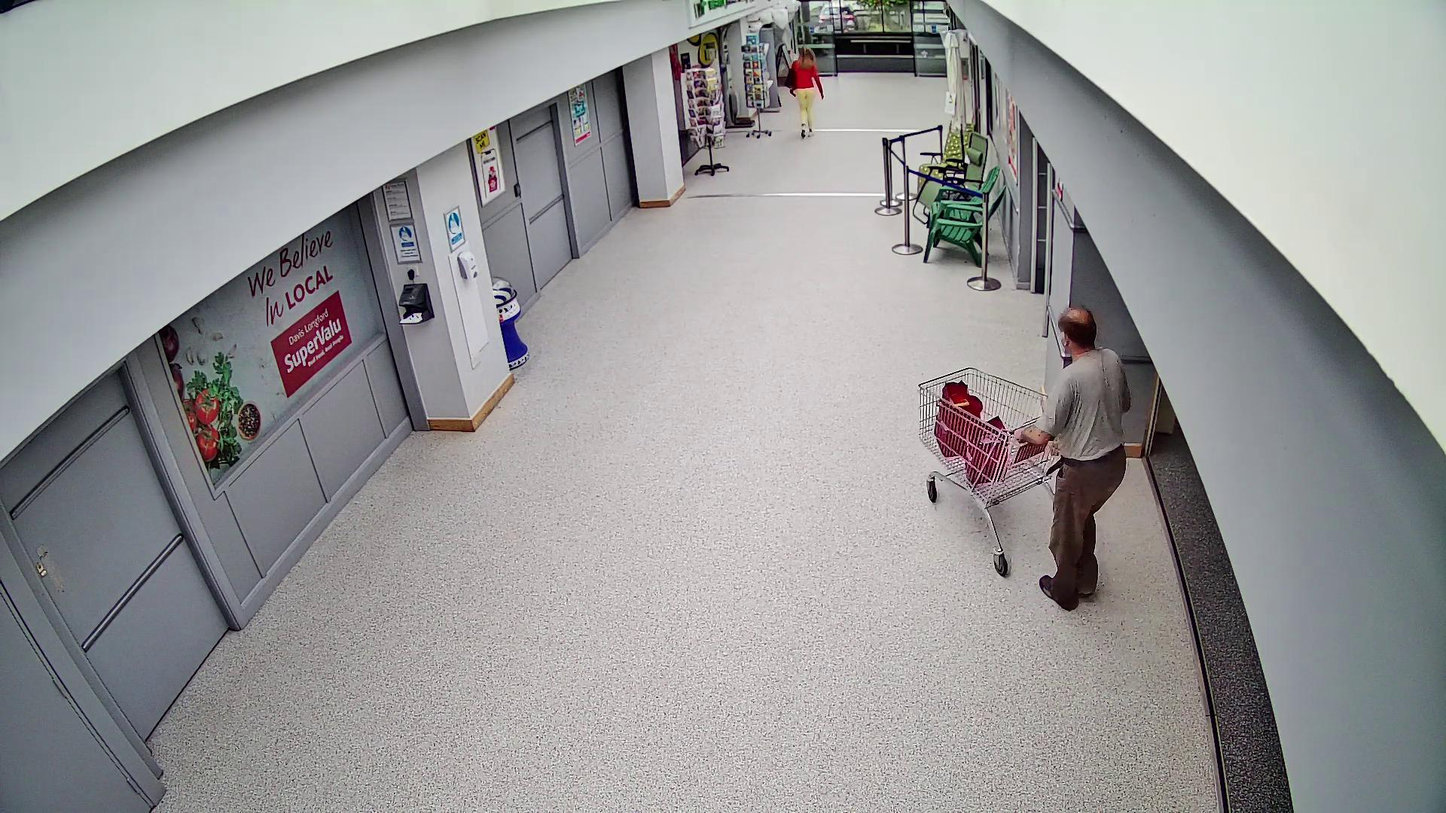backpack-or-handbag: (784, 70, 795, 89)
filled-shopping-bags: (934, 381, 1007, 483)
filled-trolly: (918, 366, 1062, 578)
person: (792, 48, 824, 139), (783, 82, 784, 82)
person-with-backpack-handbag: (784, 50, 824, 138)
person-with-basket-trolly-and-shopping-bag: (917, 307, 1131, 610)
